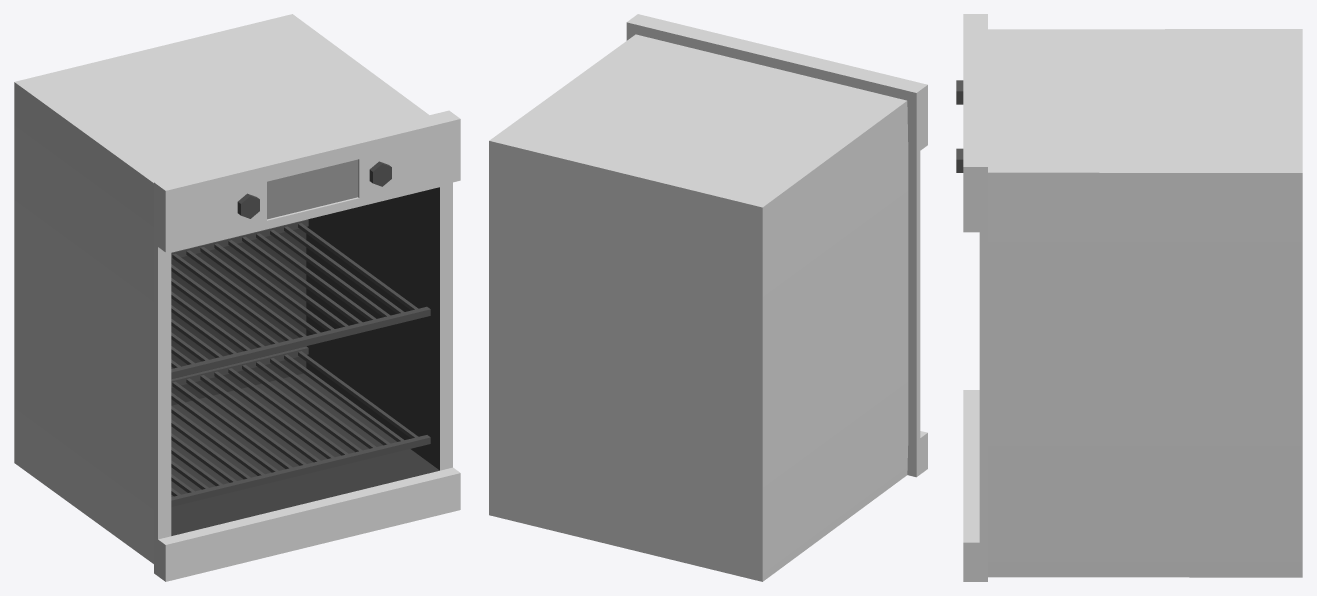
File: Oven2_01.fbx
3 renders of one model, left to right at view 1: azimuth 30°, elevation 25°; view 2: azimuth 150°, elevation 25°; view 3: azimuth 270°, elevation 25°, orthographic. The views are drawn at different scales.
Parts seen in each view (by area): view 1: Oven2_01; view 2: Oven2_01; view 3: Oven2_01.
Boxes of the visible parts, x1,y1,x2,y2 form: Oven2_01: (14, 14, 460, 581); Oven2_01: (489, 14, 927, 581); Oven2_01: (956, 14, 1302, 581).
Bounding box in the file's own units: 59.17 × 74.94 × 56.65.
